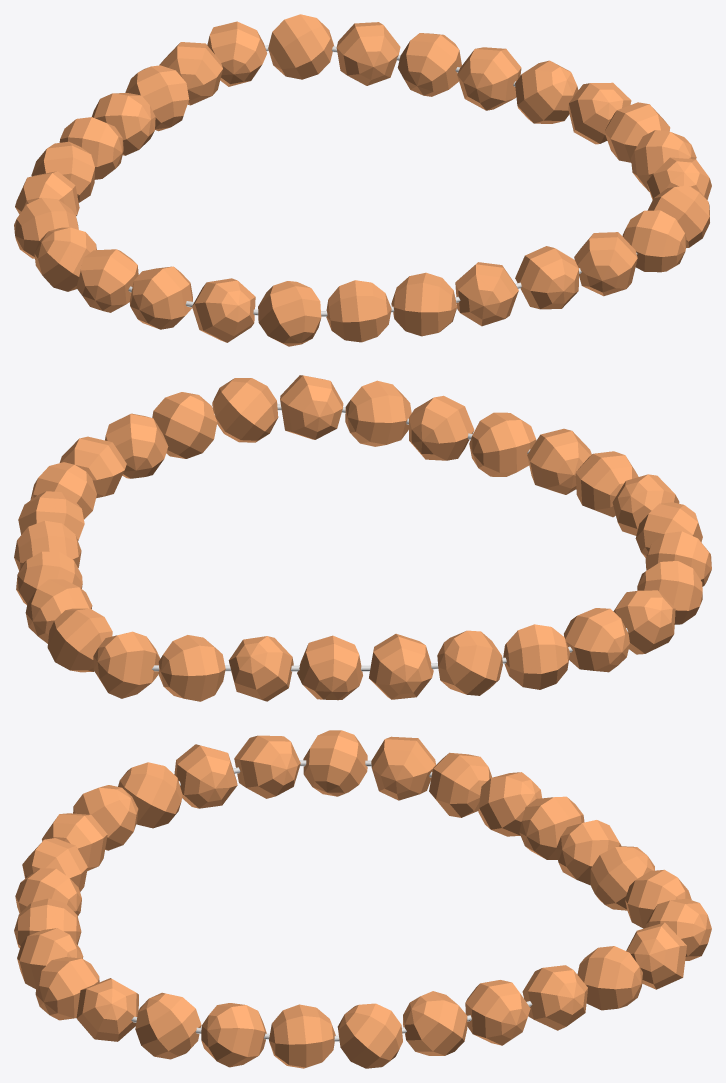
The model's file is Pearl bracelet.glb.
The picture shows the model from 3 angles, top to bottom: view 1: azimuth 30°, elevation 25°; view 2: azimuth 150°, elevation 25°; view 3: azimuth 270°, elevation 25°; orthographic projection. The views are drawn at different scales.
Visible parts, largest first — view 1: bracelet; view 2: bracelet; view 3: bracelet.
Part boxes in pixels (x1=…): bracelet: x1=14, y1=14, x2=711, y2=346; bracelet: x1=14, y1=375, x2=711, y2=701; bracelet: x1=14, y1=730, x2=711, y2=1068.
Bounding box in the file's own units: 2.19 × 0.2136 × 2.13.
